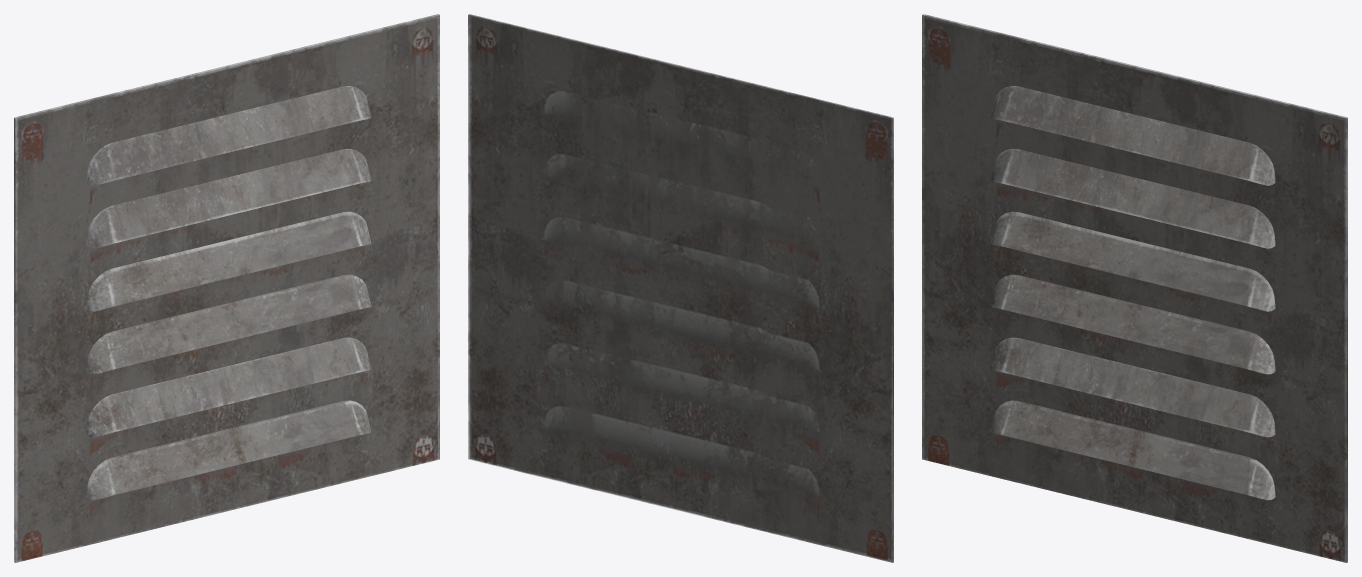
The model's file is SM_Vent_A.glb.
3 renders of one model, left to right at view 1: azimuth 30°, elevation 25°; view 2: azimuth 150°, elevation 25°; view 3: azimuth 330°, elevation 25°, orthographic.
Visible parts, largest first — view 1: SM_Vent_A; view 2: SM_Vent_A; view 3: SM_Vent_A.
Boxes of the visible parts, x1,y1,x2,y2 form: SM_Vent_A: (14,14,439,562); SM_Vent_A: (468,14,893,562); SM_Vent_A: (922,14,1347,562).
Bounding box in the file's own units: 0.2915 × 0.2915 × 0.0128.
1 material, 1 textured.
